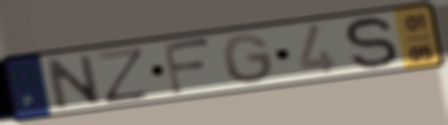4: (297, 21, 341, 78)
F: (160, 37, 215, 98)
G: (220, 32, 278, 86)
N: (42, 51, 105, 112)
S: (342, 15, 401, 73)
Z: (93, 44, 154, 107)
